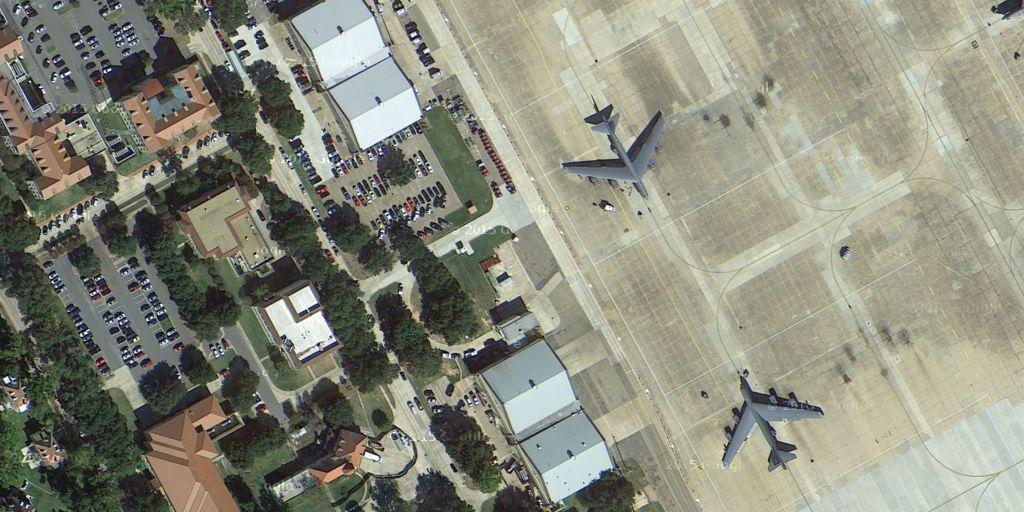B-52: (714, 372, 828, 476), (560, 98, 669, 201)
